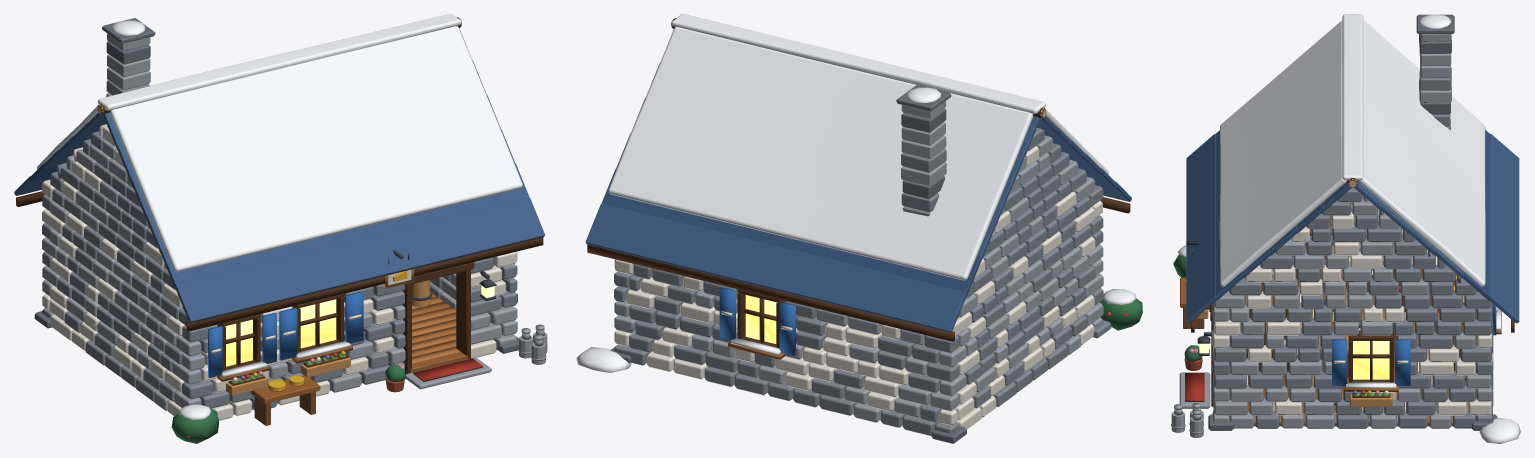
File: dairy.glb
The picture shows the model from 3 angles, left to right: view 1: azimuth 30°, elevation 25°; view 2: azimuth 150°, elevation 25°; view 3: azimuth 270°, elevation 25°; orthographic projection. The views are drawn at different scales.
Visible parts, largest first — view 1: roof, walls, exterior, floor, walls_low; view 2: roof, walls, exterior, walls_low; view 3: roof, walls, exterior, floor, interior, walls_low.
Boxes of the visible parts, <box> form: roof: <box>14,14,544,331</box>; walls: <box>34,179,518,420</box>; exterior: <box>171,324,547,443</box>; floor: <box>201,293,496,409</box>; walls_low: <box>42,275,517,397</box>; roof: <box>585,14,1131,341</box>; walls: <box>610,185,1111,443</box>; exterior: <box>576,289,1142,372</box>; walls_low: <box>614,294,1103,409</box>; roof: <box>1186,14,1519,332</box>; walls: <box>1186,195,1501,430</box>; exterior: <box>1171,245,1520,443</box>; floor: <box>1179,275,1476,426</box>; interior: <box>1295,203,1465,411</box>; walls_low: <box>1211,255,1493,404</box>.
Bounding box in the file's own units: 6.8 × 5.21 × 5.71.
